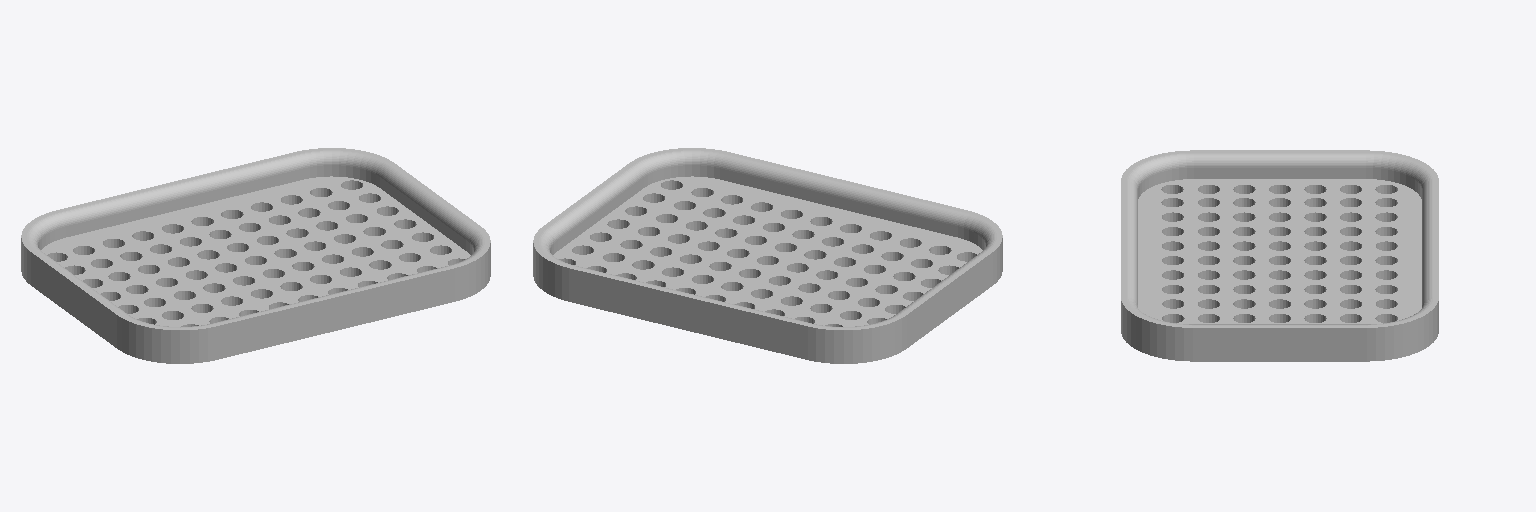
The model's file is speaker grill.obj.
3 renders of one model, left to right at view 1: azimuth 30°, elevation 25°; view 2: azimuth 150°, elevation 25°; view 3: azimuth 270°, elevation 25°, orthographic.
Parts seen in each view (by area): view 1: Mesh1 Speaker_Grill1 Model; view 2: Mesh1 Speaker_Grill1 Model; view 3: Mesh1 Speaker_Grill1 Model.
Part boxes in pixels (left/top/right/bottom): Mesh1 Speaker_Grill1 Model: left=21, top=148, right=490, bottom=363; Mesh1 Speaker_Grill1 Model: left=533, top=148, right=1002, bottom=363; Mesh1 Speaker_Grill1 Model: left=1121, top=150, right=1438, bottom=361.
Size of the model in its own units: 37.41 by 3.31 by 28.32.